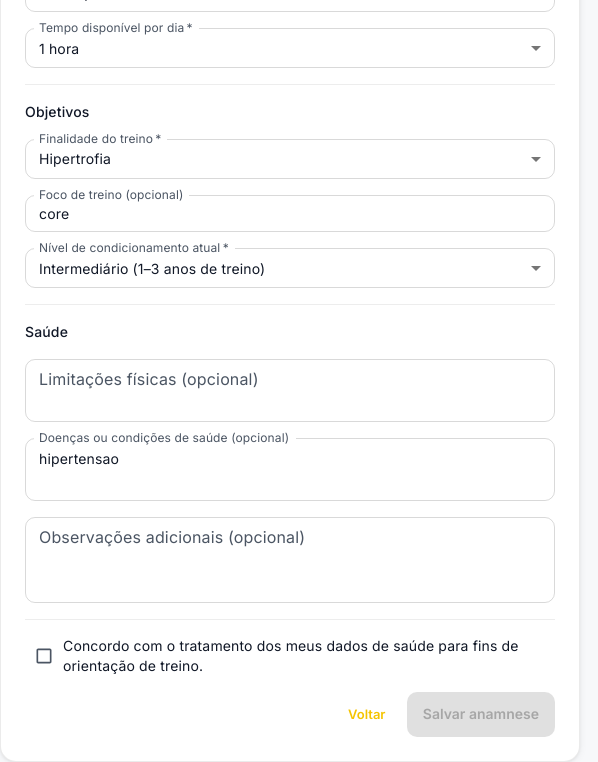
Test case: /perfil/anamnese › consent gating: salvar bloqueado até consentir o tratamento de dados de saúde
(page scrolled)
Expected: the field labelled "Foco de treino (opcional)" is shown, top-left (25, 195), bottom-right (555, 232)
Expected: the button "Salvar anamnese" is disabled, top-left (407, 692), bottom-right (555, 737)
What coordinates should you click on to do the following:
click the checkbox
I would click on:
 (290, 656)
Its box is top-left (25, 636), bottom-right (555, 676).
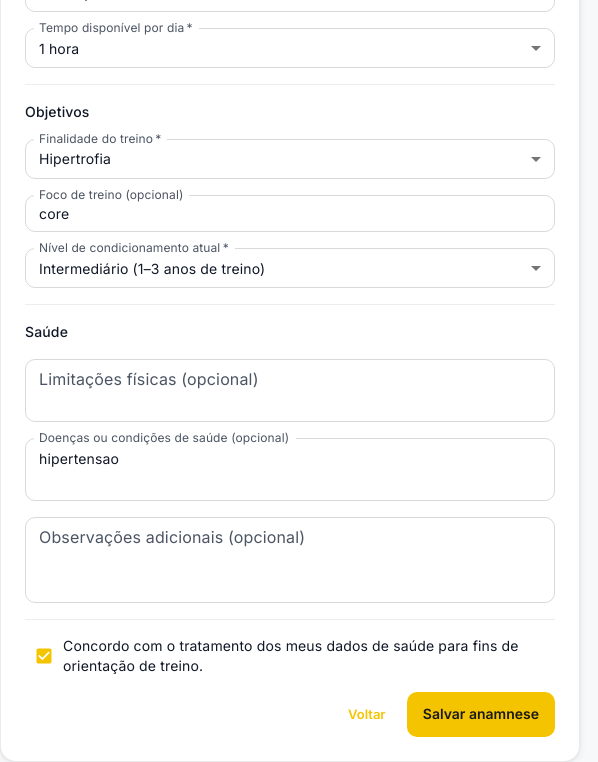
Expected: the button "Salvar anamnese" is enabled, top-left (407, 692), bottom-right (555, 737)
